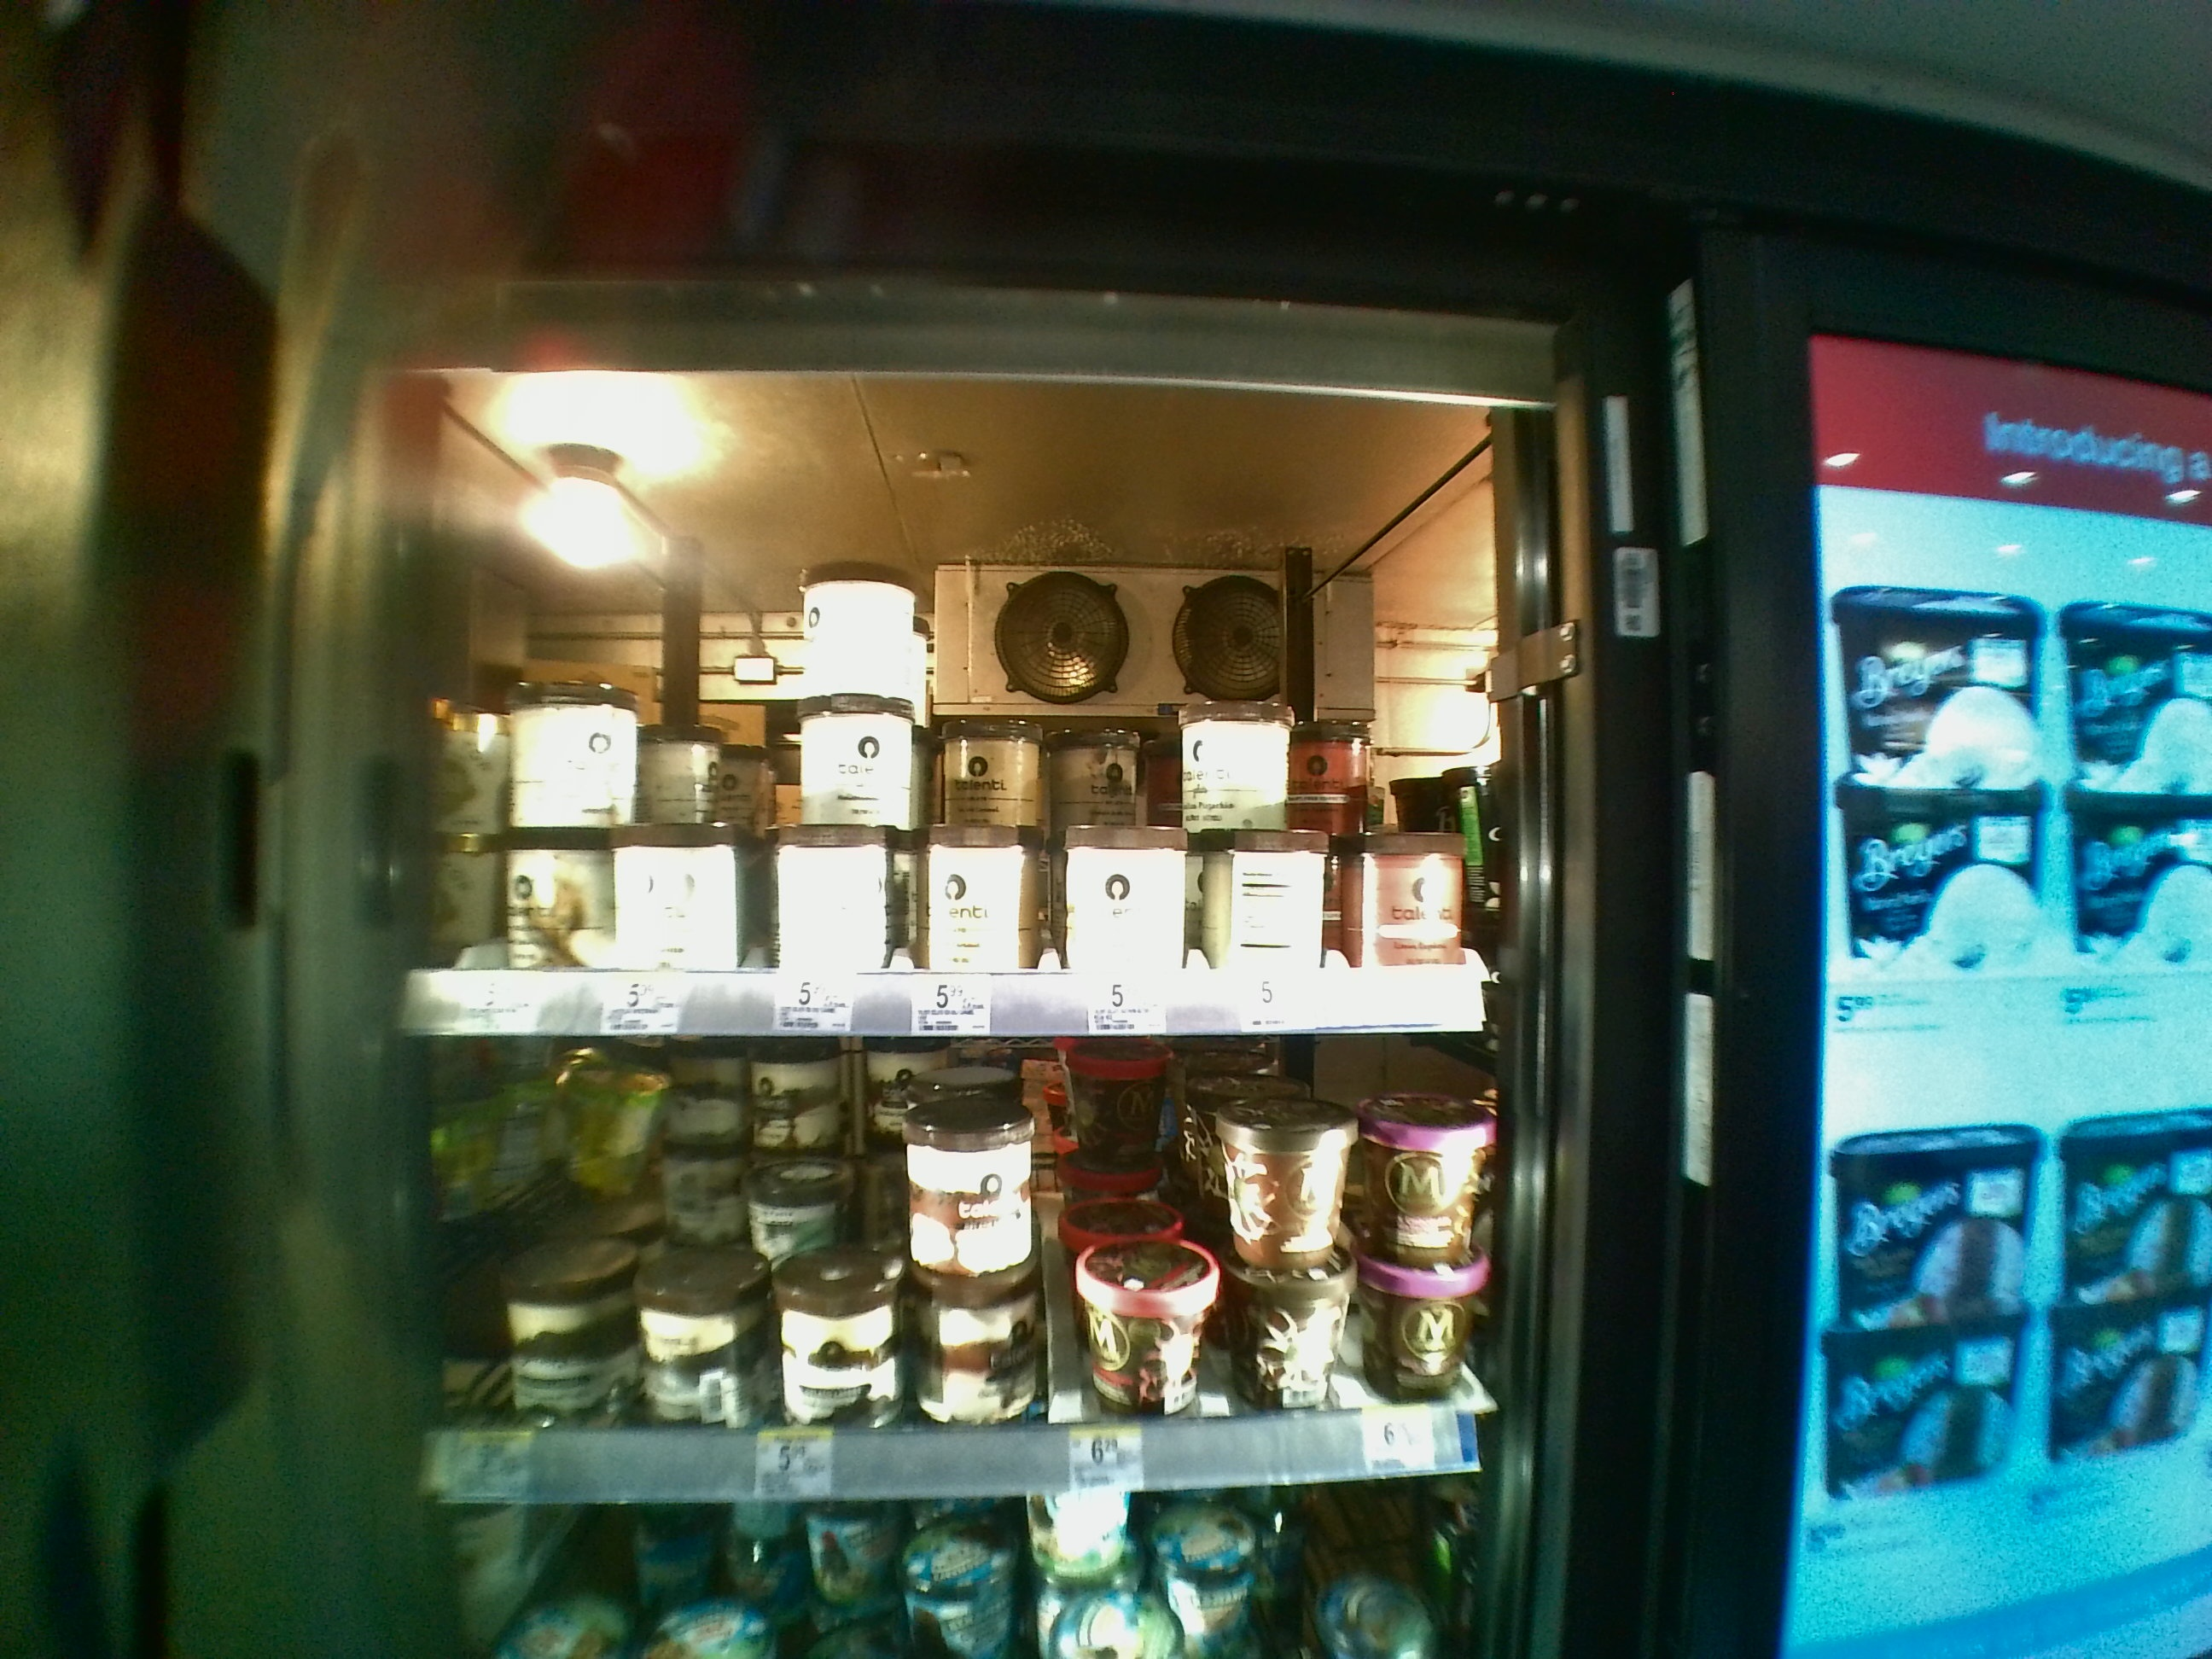shelf: (395, 436, 1486, 1028), (401, 1049, 1501, 1504)
